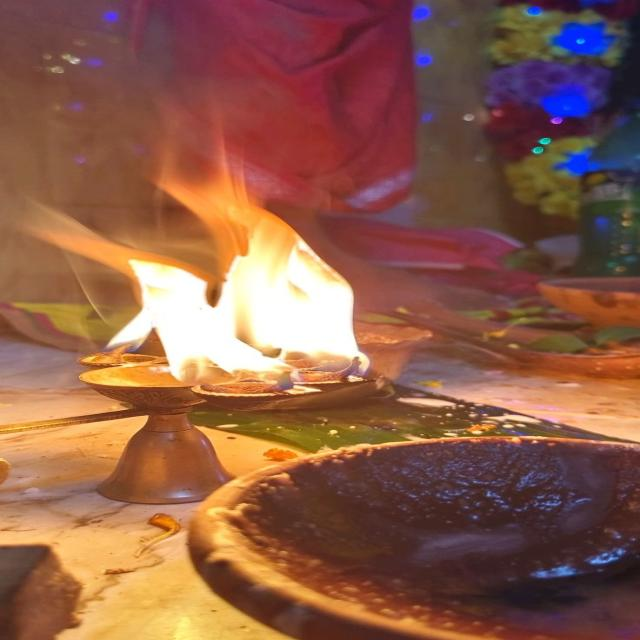fire: (104, 175, 372, 379)
